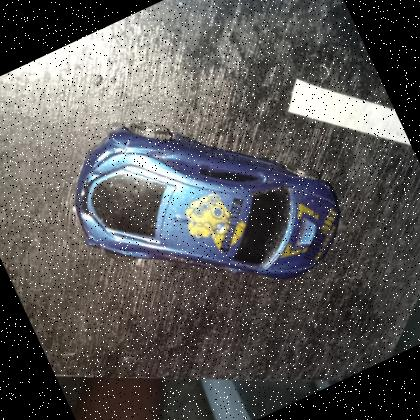Car: (46, 52, 364, 354)
